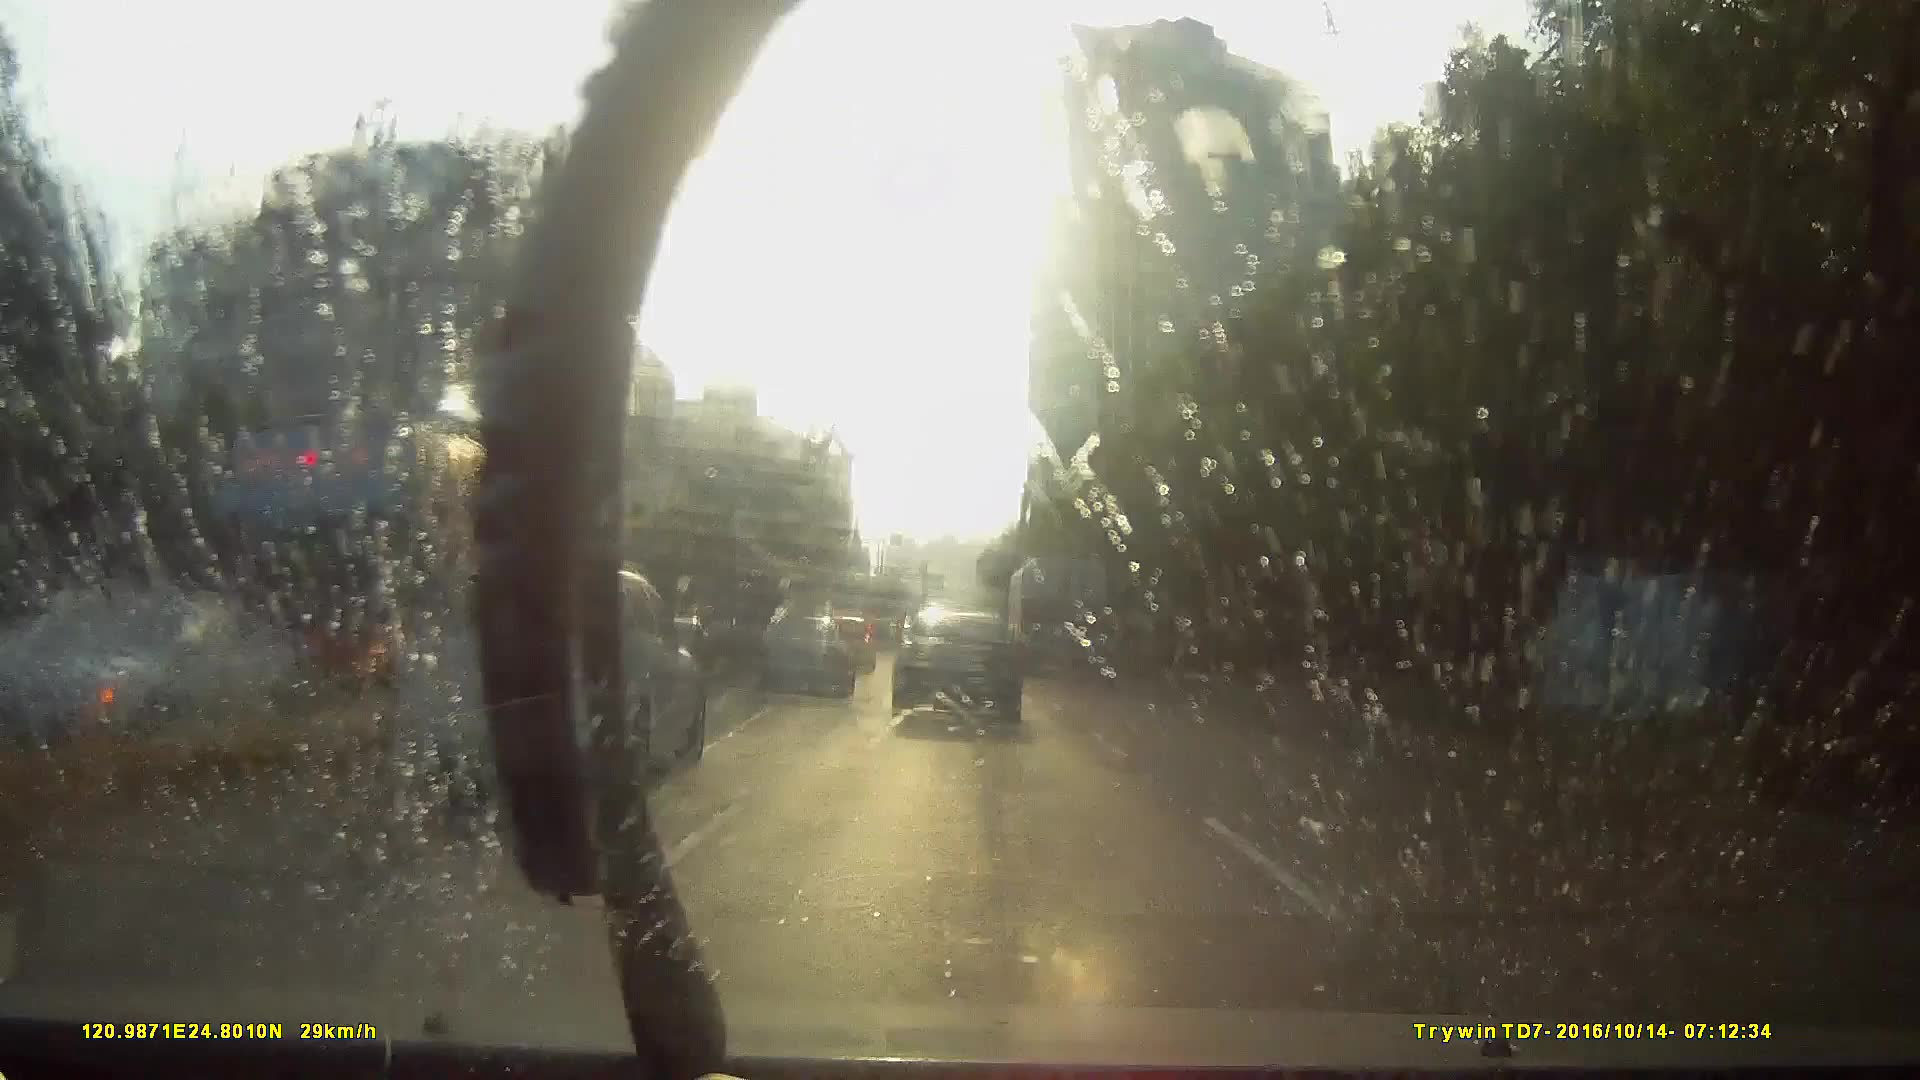vehicle: (156, 404, 630, 736), (251, 556, 684, 868), (404, 566, 708, 794), (0, 597, 260, 748), (891, 611, 1022, 736), (1005, 564, 1110, 691), (746, 626, 853, 713), (866, 638, 915, 687)
